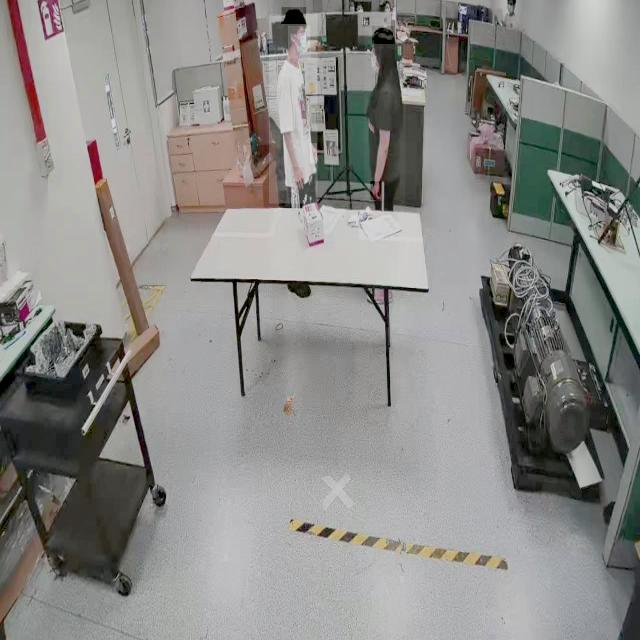face_mask: (288, 26, 311, 60), (371, 44, 382, 76)
hand_noglove: (291, 167, 305, 189), (371, 181, 381, 201), (310, 143, 318, 165)
head_nohelmet: (282, 7, 306, 25), (372, 26, 395, 44)
person: (269, 14, 318, 204), (364, 19, 406, 213)
